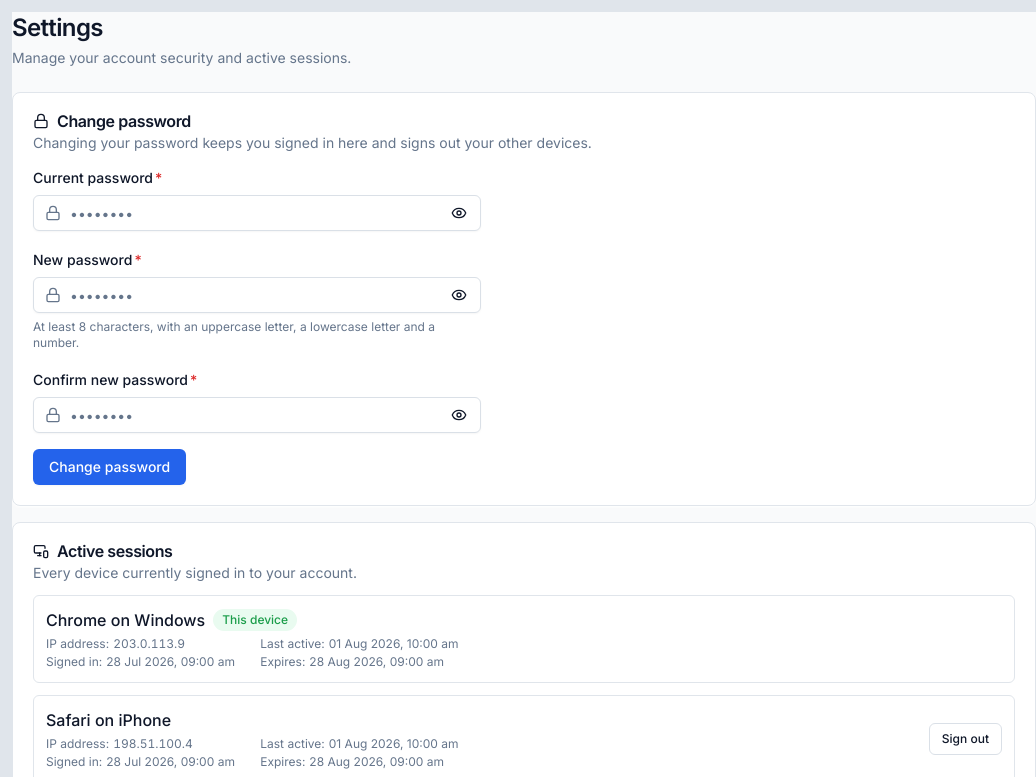
Student settings page › puts a wrong current password on the field it belongs to
The image size is (1036, 777).
Type "OldPassw0rd" into the password field labelled "Current password*".
click(257, 213); type("OldPassw0rd")  # box [33,195,481,231]
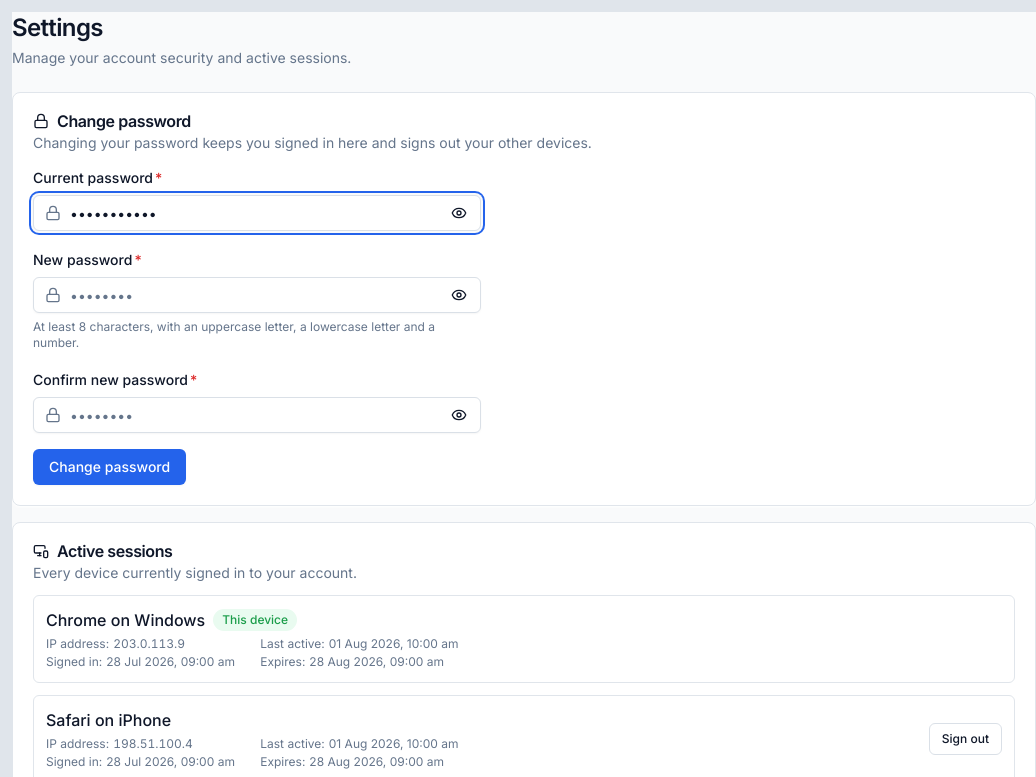
Type "NewPassw0rd" into the password field labelled "New password*".
click(257, 295); type("NewPassw0rd")  # box [33,277,481,313]
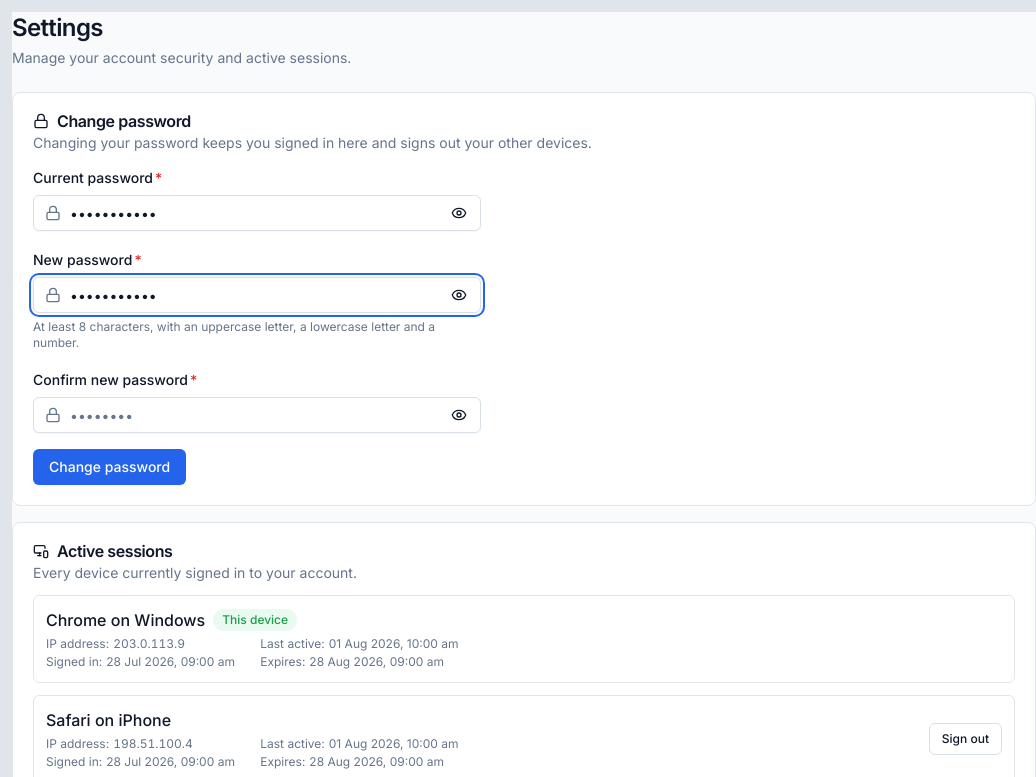
Type "NewPassw0rd" into the password field labelled "Confirm new password*".
click(257, 415); type("NewPassw0rd")  # box [33,397,481,433]
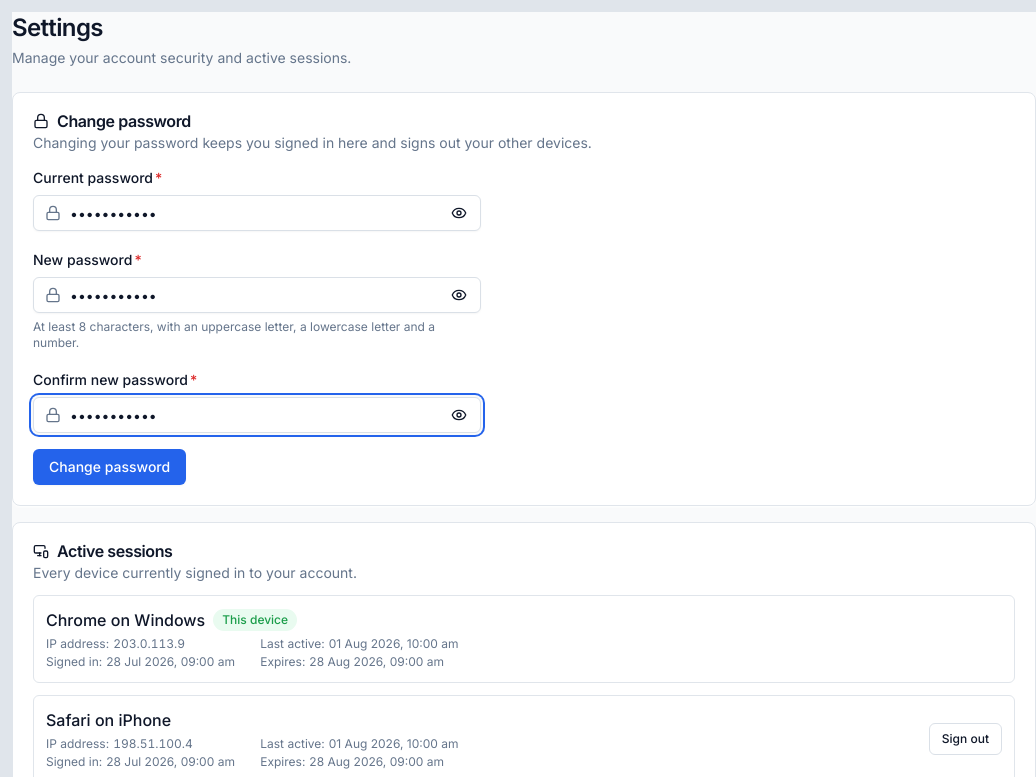
Click the button "Change password".
click(110, 467)  # box [33,449,186,485]
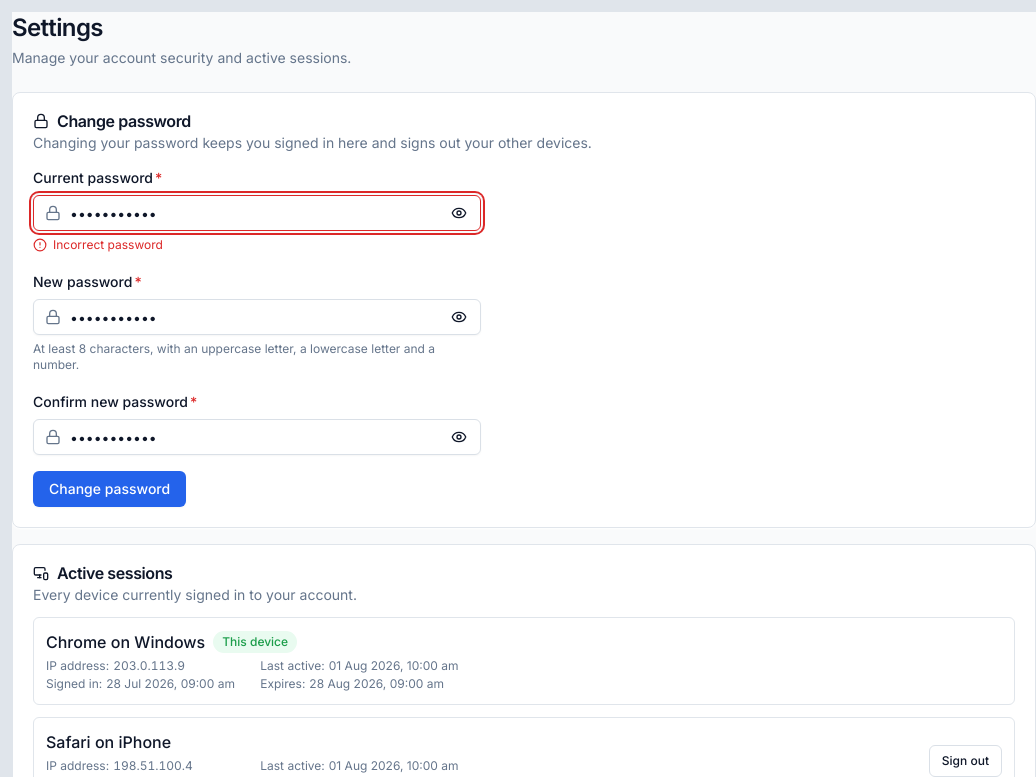
Result: the text "Incorrect password" is shown at [33,237,163,252]
